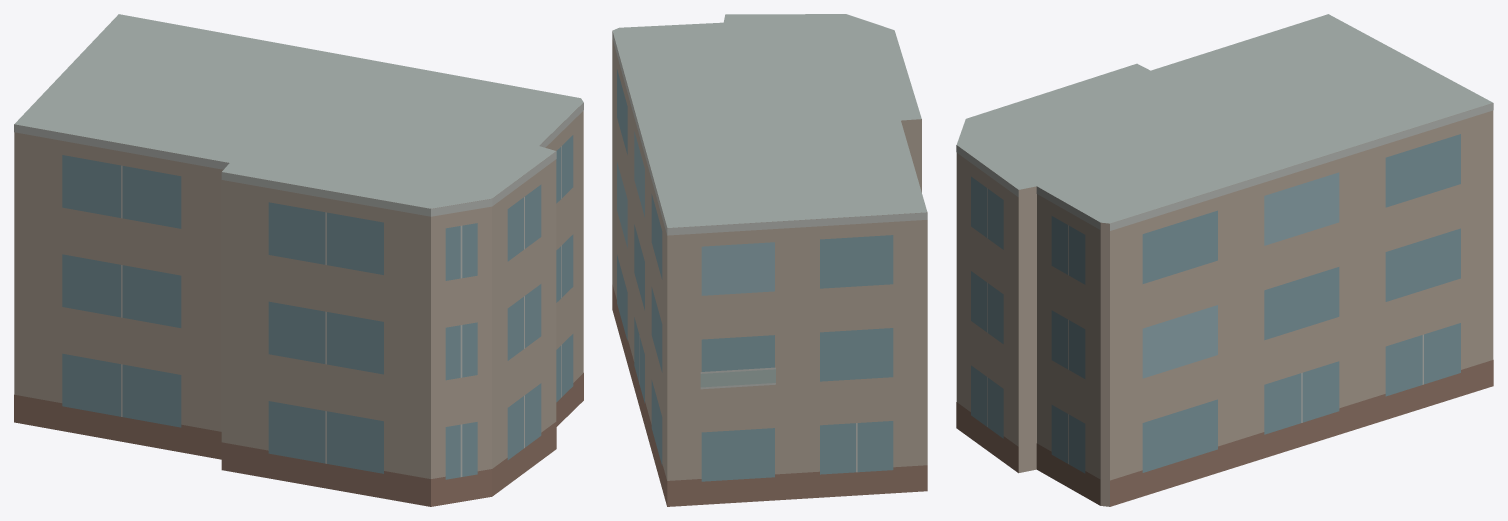
File: survey-upis-32831315.glb
3 views of the same model, side by side, from view 1: azimuth 30°, elevation 25°; view 2: azimuth 150°, elevation 25°; view 3: azimuth 270°, elevation 25° (orthographic). The views are drawn at different scales.
Visible parts, largest first — view 1: survey-upis-32831315.tmp; view 2: survey-upis-32831315.tmp; view 3: survey-upis-32831315.tmp.
Part boxes in pixels (<box>): survey-upis-32831315.tmp: <box>14,14,583,506</box>; survey-upis-32831315.tmp: <box>612,14,927,506</box>; survey-upis-32831315.tmp: <box>956,14,1493,506</box>.
Size of the model in its own units: 14.53 by 9.15 by 15.73.
